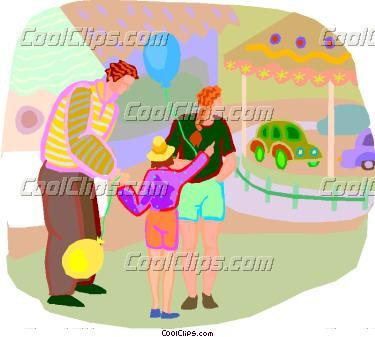car: (247, 115, 328, 173)
person: (31, 51, 142, 307), (160, 82, 238, 316), (131, 134, 186, 320)
